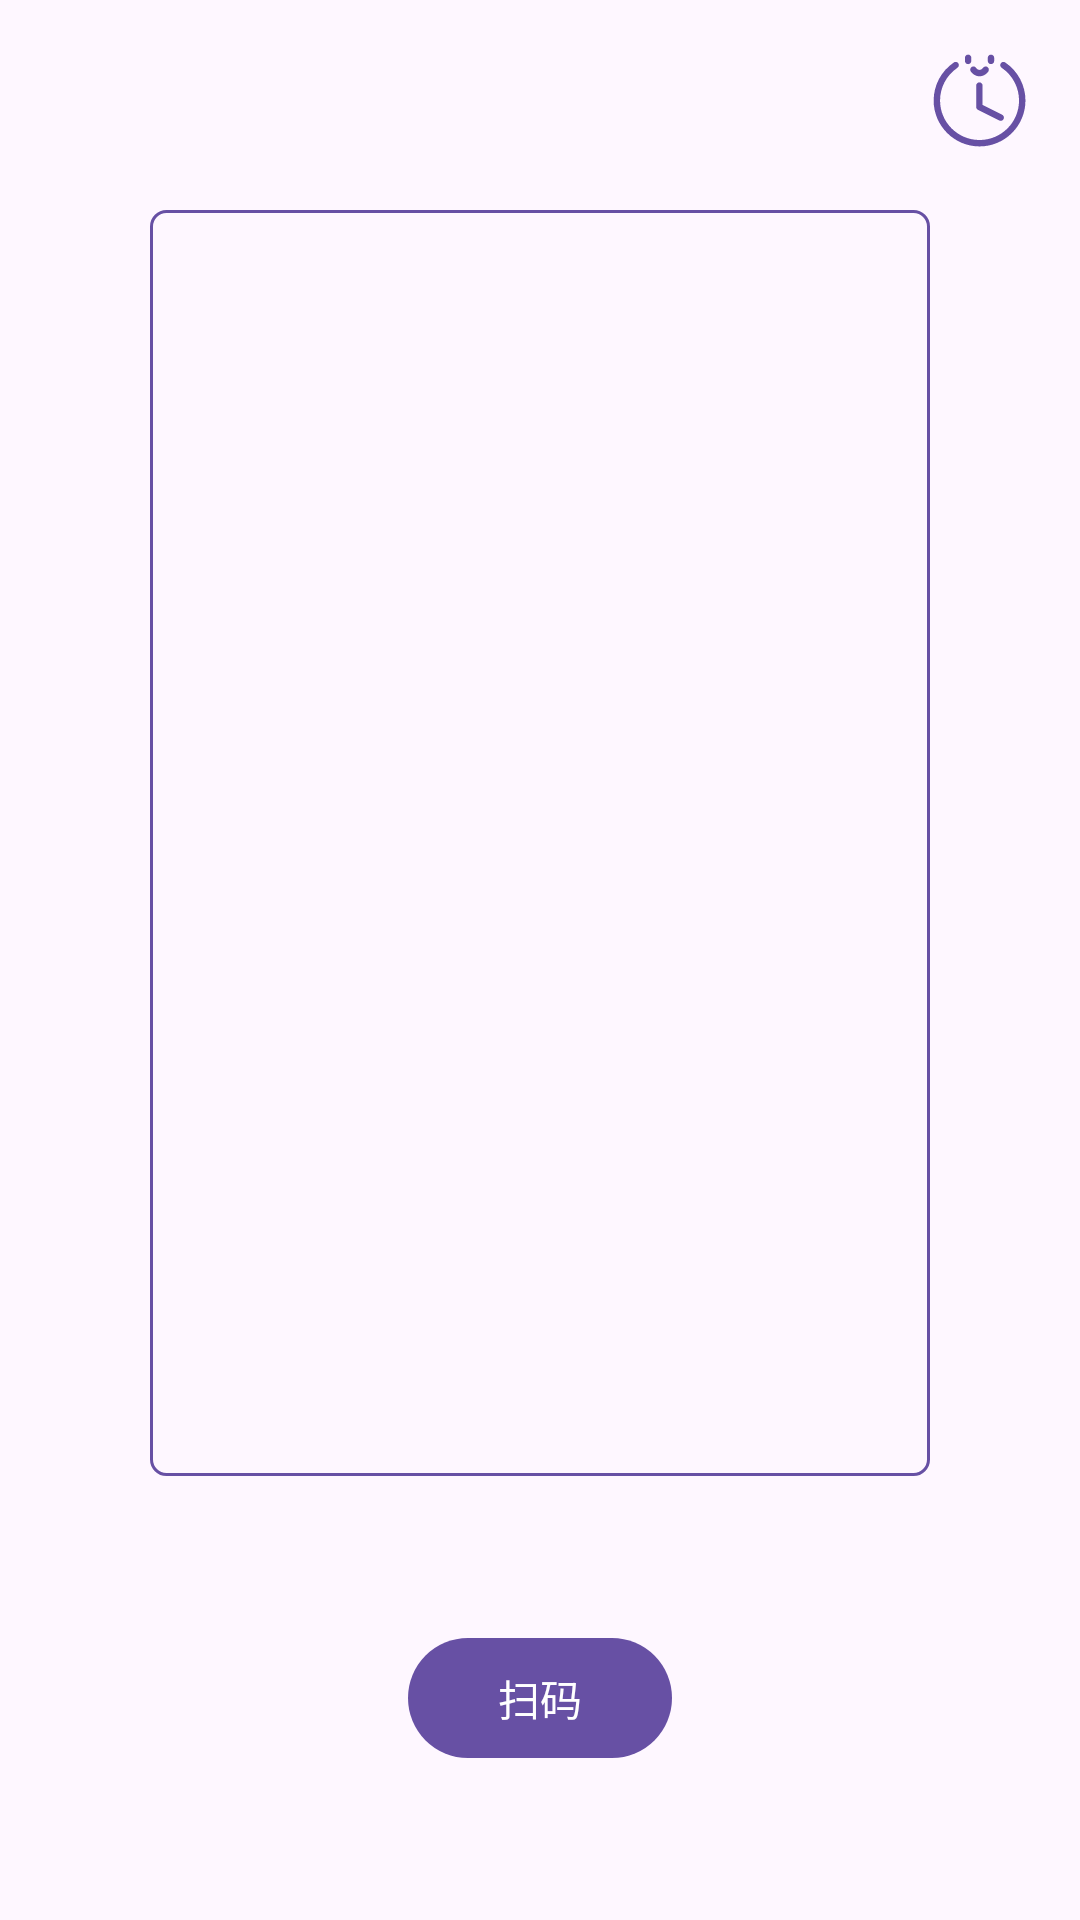

Named icons in this screenshot (1080 × 1920) and their centers, (x,y):
history: (979,100)
